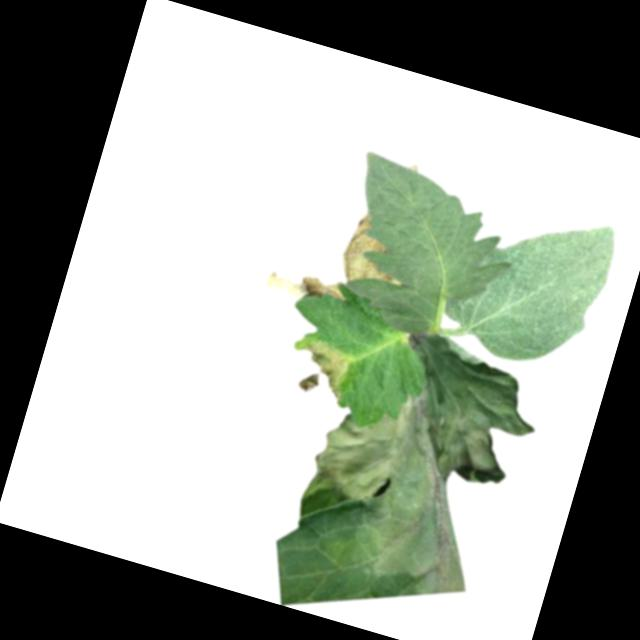Late_blight: (284, 311, 558, 617), (335, 209, 415, 298), (261, 261, 352, 316), (292, 335, 358, 406)
healthy: (321, 151, 526, 354), (438, 187, 623, 379)
